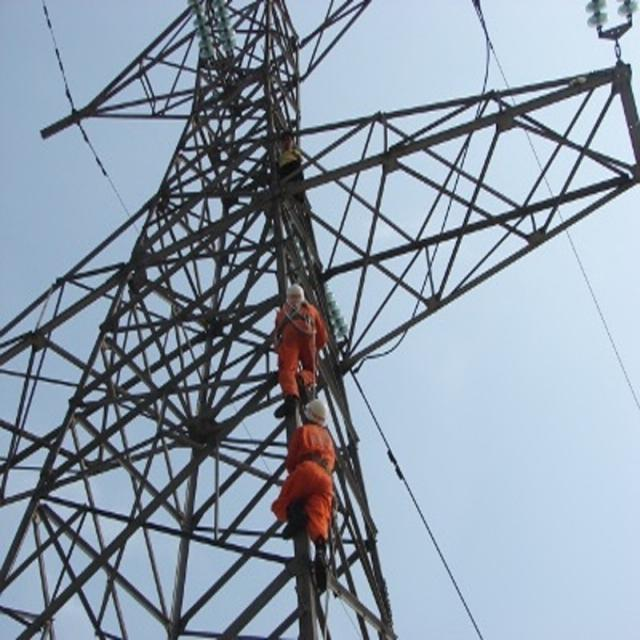non-critical vegetation: (38, 11, 549, 604)
